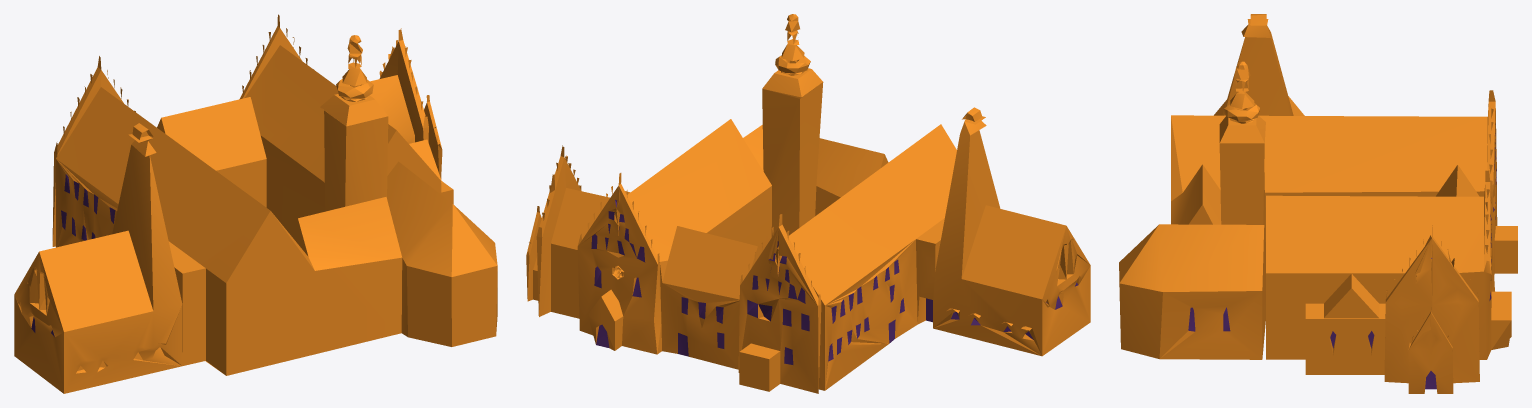
The model's file is Kościół BernardynówV2.fbx.
The picture shows the model from 3 angles, left to right: view 1: azimuth 30°, elevation 25°; view 2: azimuth 150°, elevation 25°; view 3: azimuth 270°, elevation 25°; orthographic projection. The views are drawn at different scales.
Parts seen in each view (by area): view 1: Kościół_Bernardynów_obj_0; view 2: Kościół_Bernardynów_obj_0; view 3: Kościół_Bernardynów_obj_0.
Part boxes in pixels (bbox=[...]): Kościół_Bernardynów_obj_0: bbox=[14, 14, 497, 393]; Kościół_Bernardynów_obj_0: bbox=[526, 14, 1090, 393]; Kościół_Bernardynów_obj_0: bbox=[1119, 14, 1517, 393].
Bounding box in the file's own units: 42.15 × 22.6 × 32.29.
Materials: 1 (1 with a texture image).
